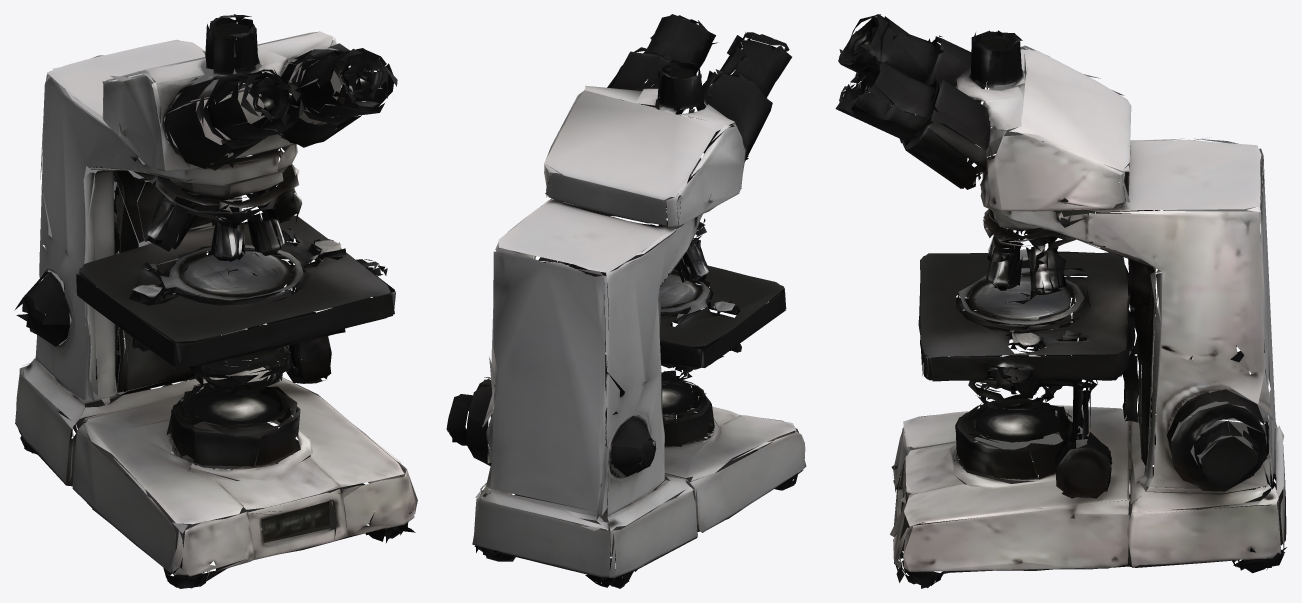
File: microscope_c.glb
3 views of the same model, side by side, from view 1: azimuth 30°, elevation 25°; view 2: azimuth 150°, elevation 25°; view 3: azimuth 270°, elevation 25° (orthographic). The views are drawn at different scales.
Visible parts, largest first — view 1: microscope_c; view 2: microscope_c; view 3: microscope_c.
Part boxes in pixels (x1=…): microscope_c: x1=14, y1=14, x2=417, y2=588; microscope_c: x1=446, y1=14, x2=806, y2=588; microscope_c: x1=835, y1=14, x2=1286, y2=588.
Size of the model in its own units: 0.2422 by 0.4498 by 0.3716.
Materials: 1 (1 with a texture image).
